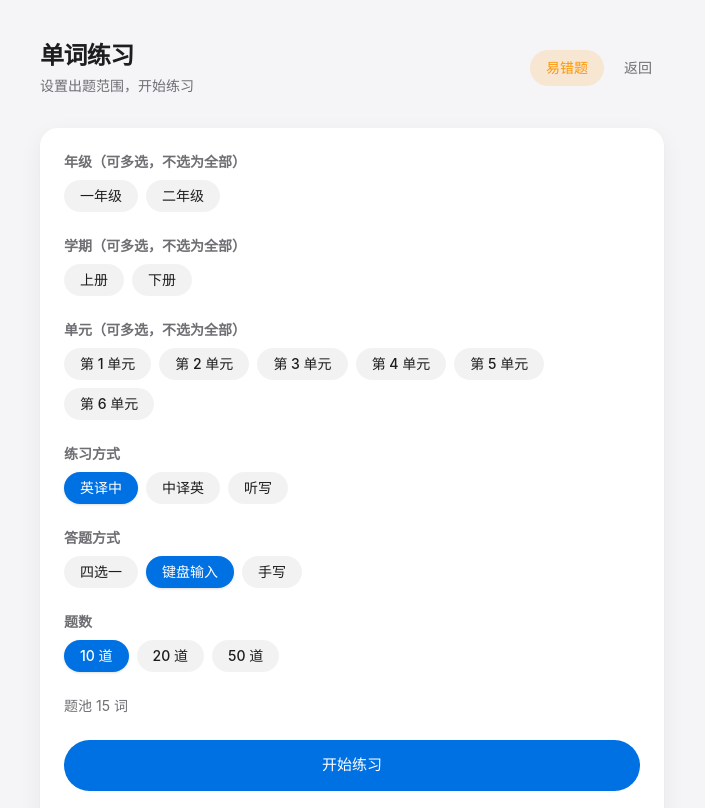
it: 听写模式 (FR-ENG-03/06) › 答错揭示英文+音标+中文
The image size is (705, 808).
Click the button "二年级". click: (183, 196)
box: [146,180,220,212]
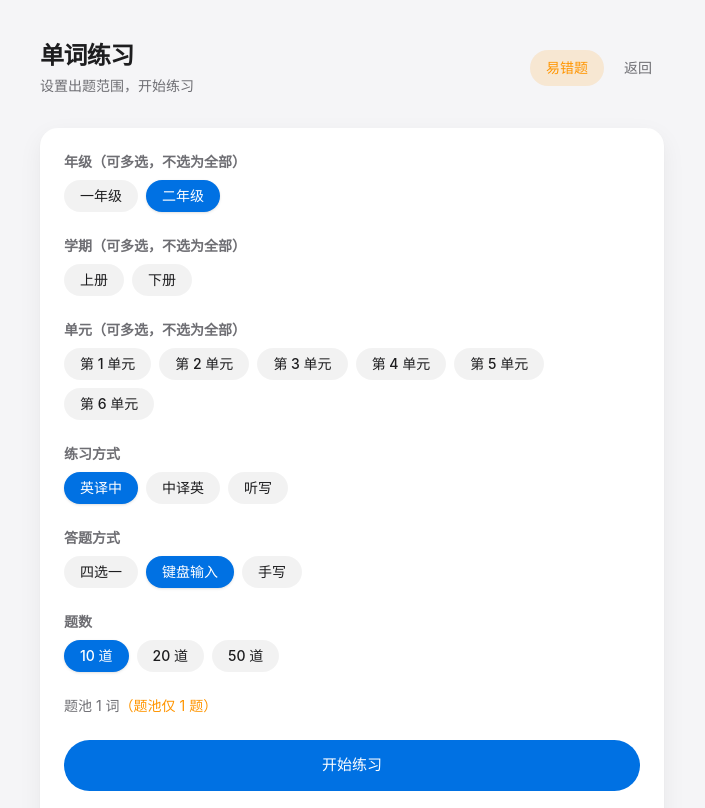
Click the button "听写". click: (258, 488)
box: [228,472,288,504]
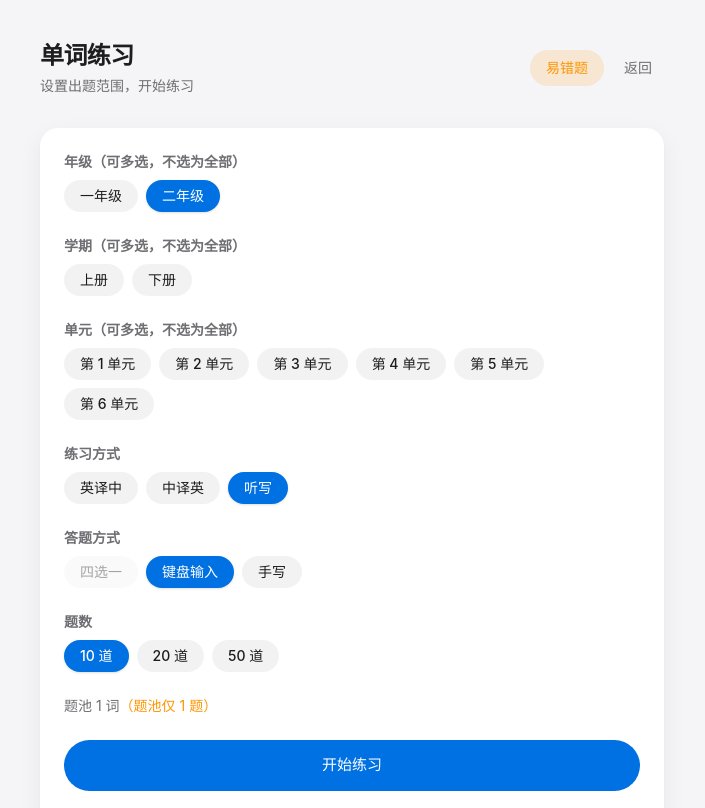
Click the button with test id "start". click: (352, 765)
box: [64,740,640,790]
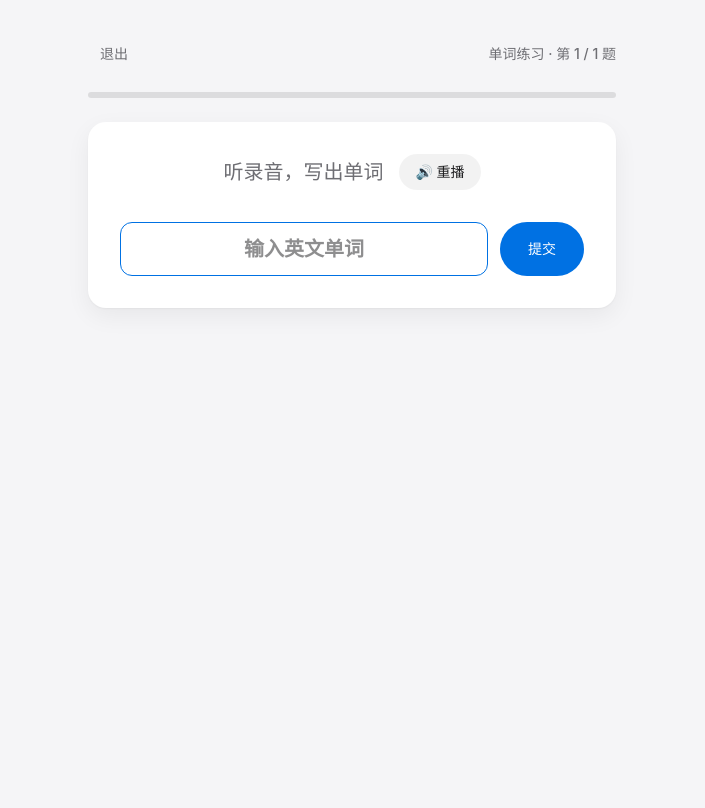
Type "cow" into the field with test id "answer-input". click: (304, 249)
box: [120,222,488,276]
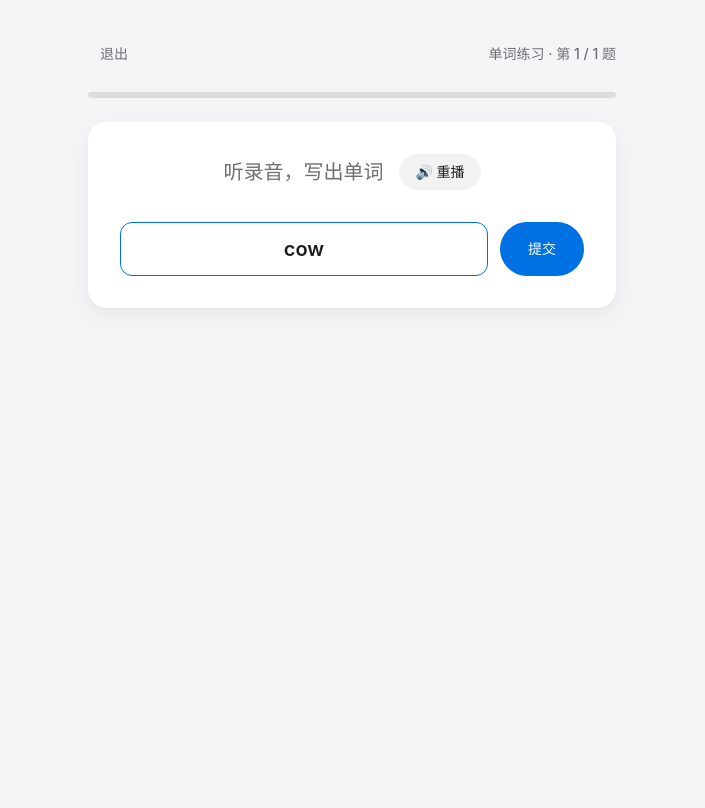
expect the form with test id "answer-input" is shown: met
Submit the form with test id "answer-input", box [120,222,584,276]
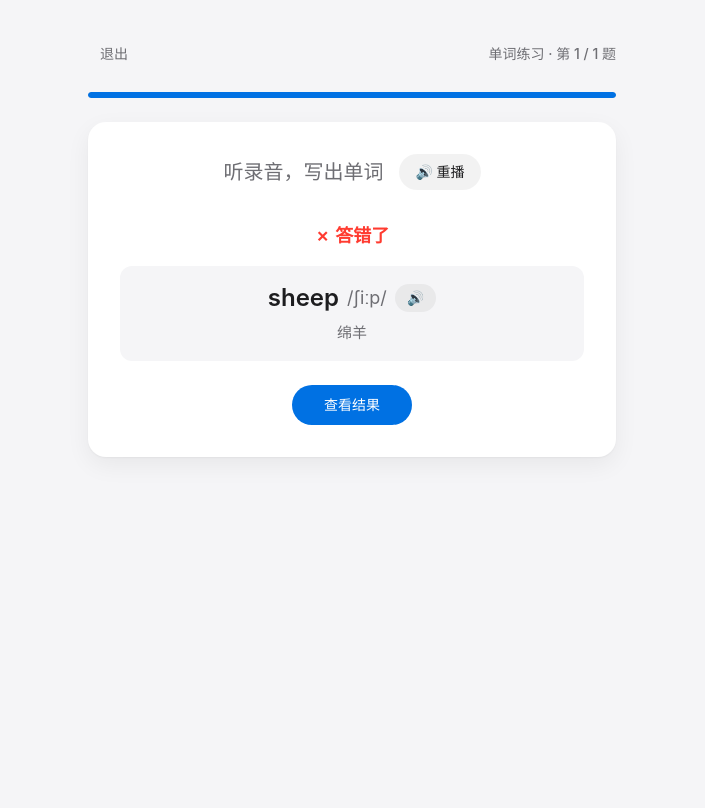
expect the element with test id "feedback" shows "答错了": met, box [315,225,389,246]
expect the element with test id "answer-reveal" shows "sheep": met, box [268,283,339,312]
expect the element with test id "answer-reveal" shows "/ʃiːp/": met, box [347,287,387,308]
Click the button "查看结果". click: (352, 404)
box: [292,384,412,424]
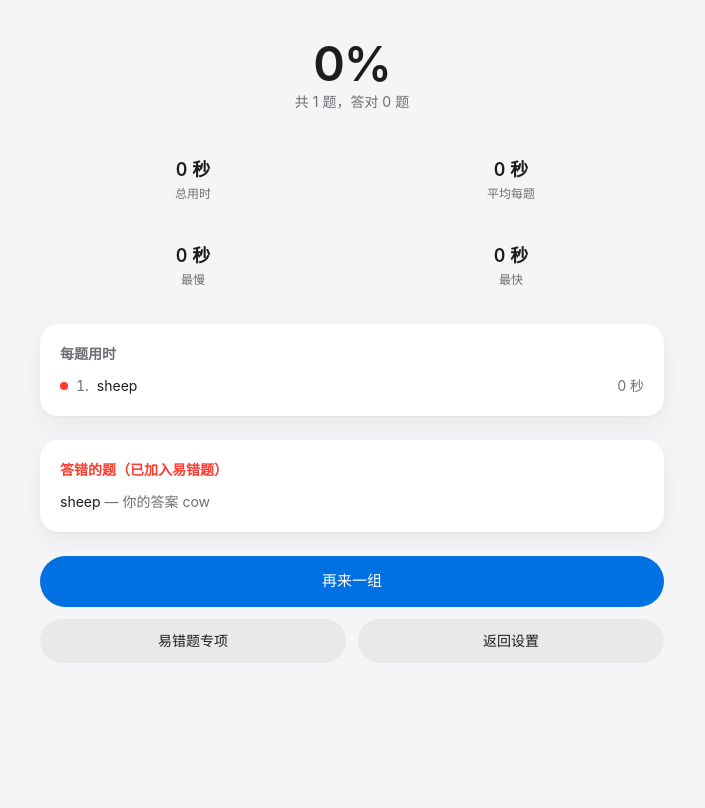
expect the element with test id "summary" shows "0%": met
